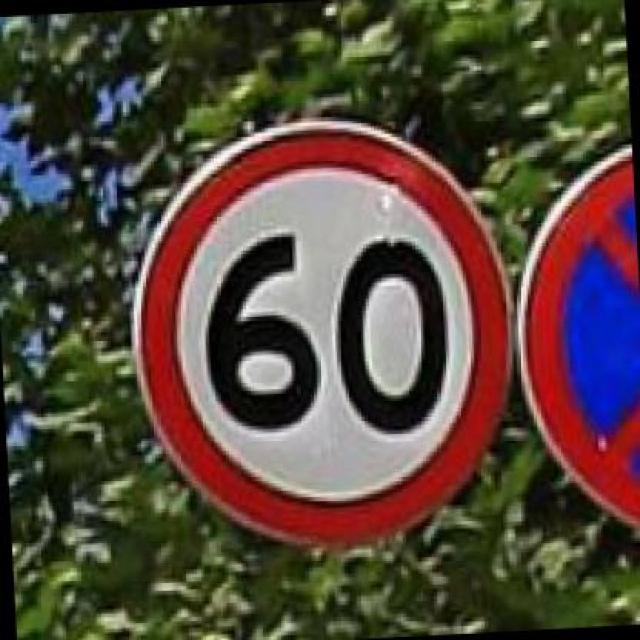Limite-60: (129, 113, 514, 551)
